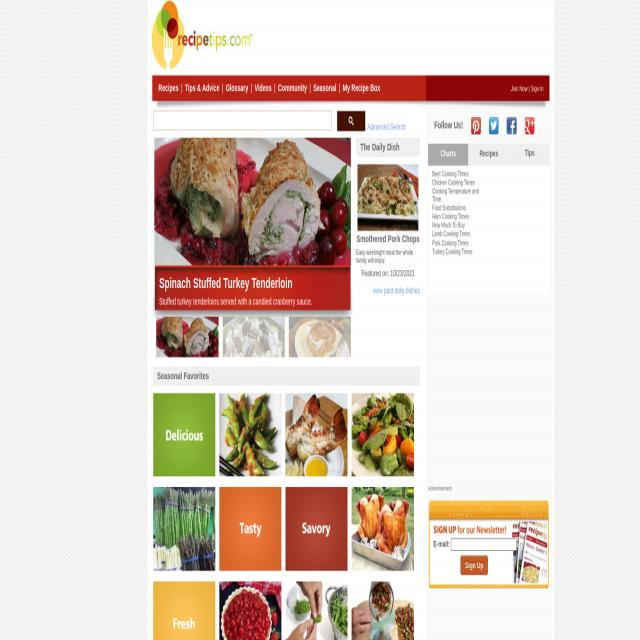button: (154, 137, 352, 266), (149, 6, 251, 71), (153, 393, 215, 477), (220, 393, 282, 477), (286, 393, 348, 477), (352, 393, 414, 477), (153, 487, 215, 571), (220, 487, 282, 571), (286, 487, 348, 571), (352, 487, 414, 571), (358, 164, 418, 231), (284, 581, 348, 640), (219, 581, 282, 640), (351, 582, 415, 640), (154, 582, 215, 640), (156, 317, 218, 357), (223, 317, 285, 357), (289, 317, 351, 357), (468, 144, 509, 164), (428, 144, 468, 164), (510, 144, 549, 164), (338, 111, 366, 131), (461, 555, 488, 575), (471, 117, 481, 135), (489, 117, 499, 135), (507, 117, 517, 135), (525, 117, 534, 135)
field: (153, 110, 332, 130), (451, 538, 517, 551)
